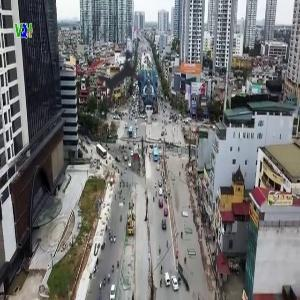drone: (58, 19, 187, 148)
